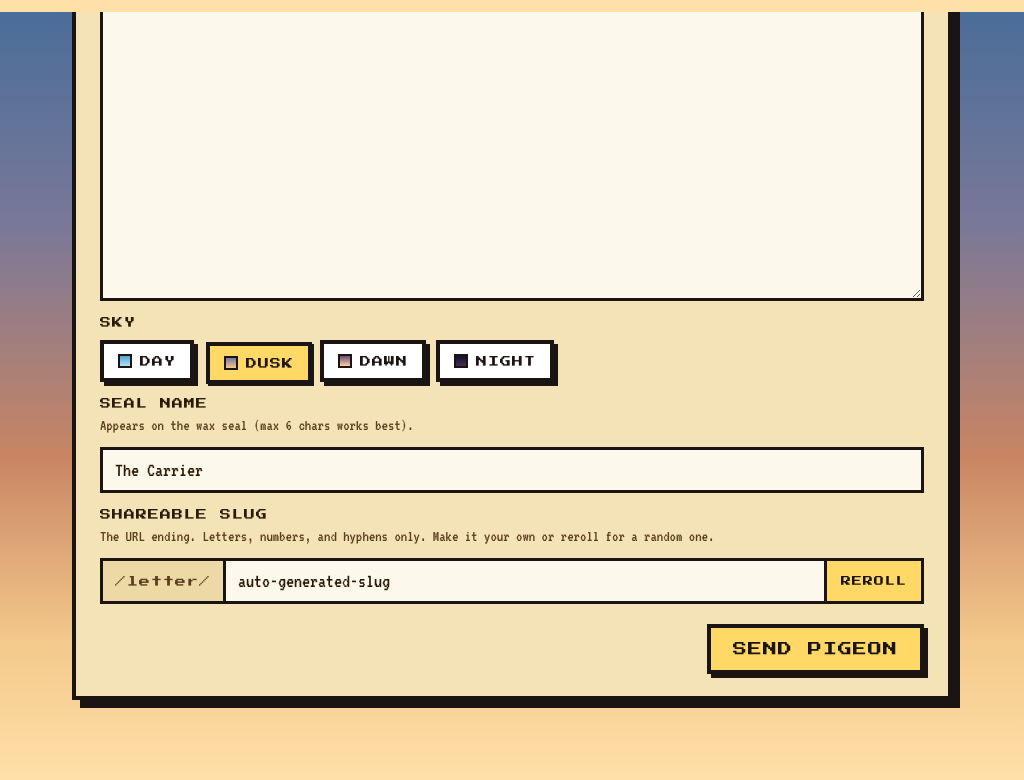
it: ComposeForm — initial render › typing a slug normalizes via slugify (lowercase + hyphens)
The width and height of the screenshot is (1024, 780).
Replace the text in the field with class "slug-input" with "Hello World!": (525, 581) x1=226 y1=561 x2=824 y2=601
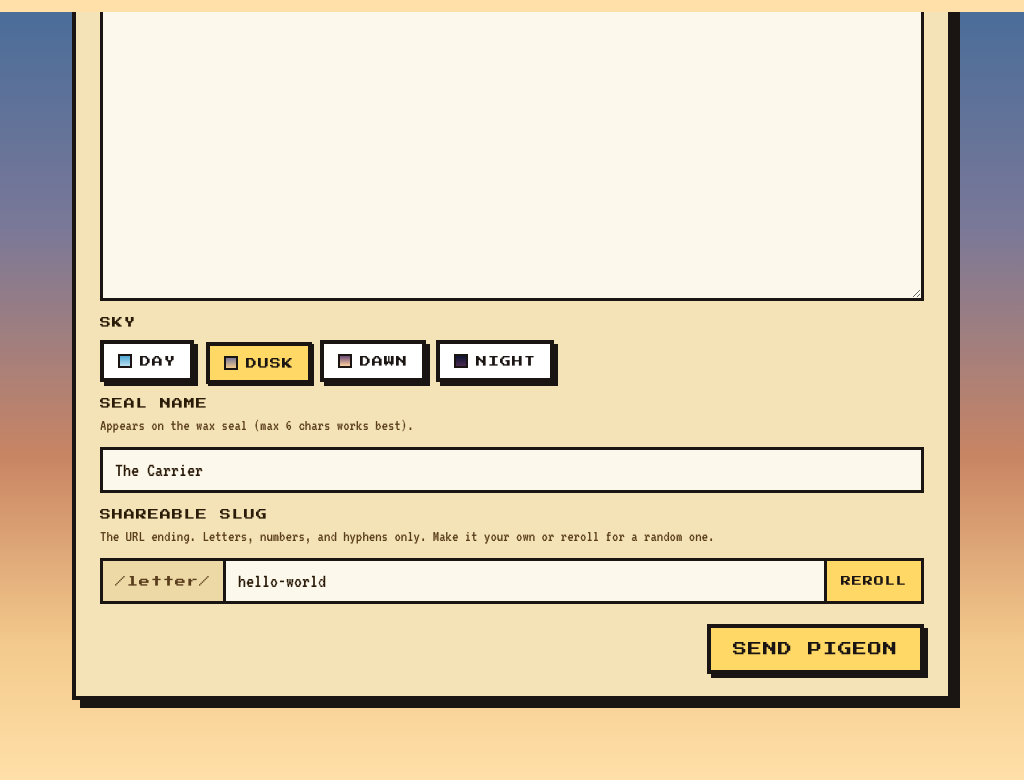
Check: the field with class "slug-input" holds "hello-world", box x1=226 y1=561 x2=824 y2=601
